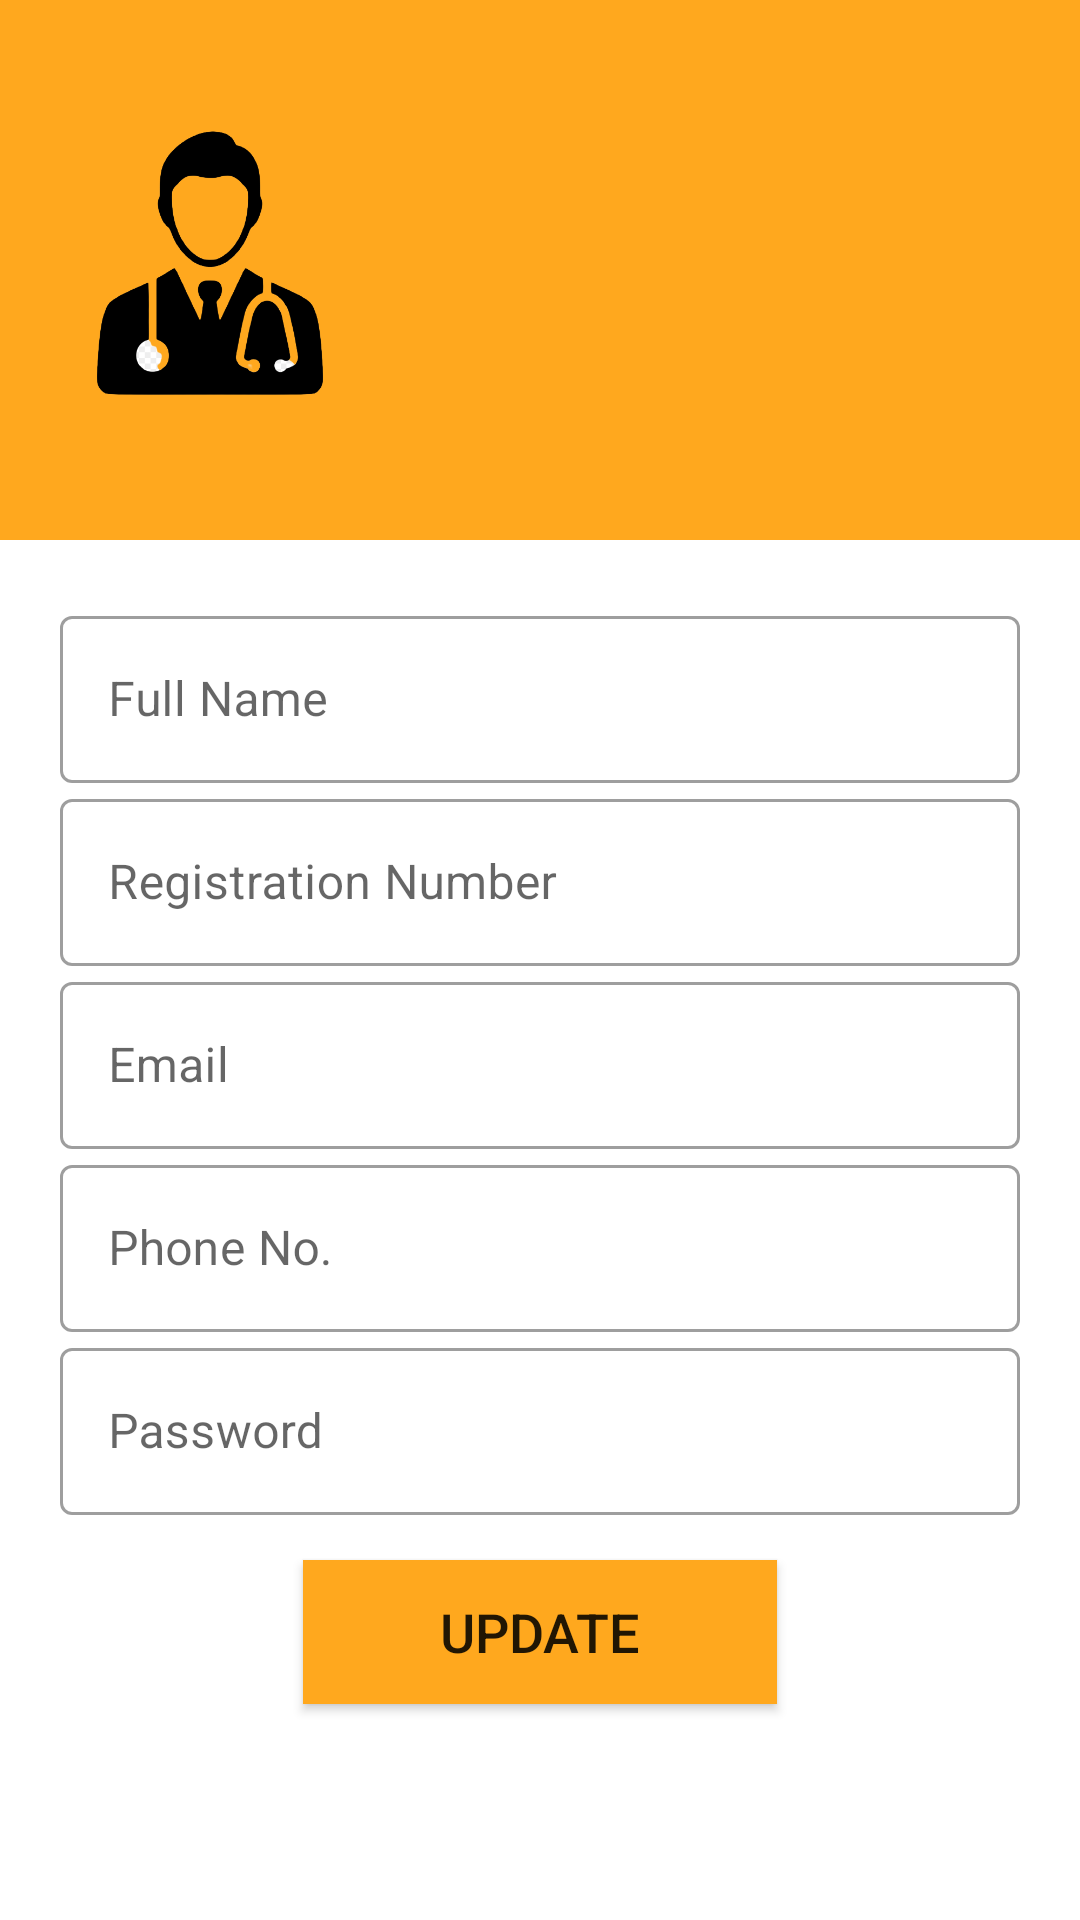

Icons on this 1080px x 1920px Android screen, each with the point to tap as point (x, y):
doctor: point (210, 263)
